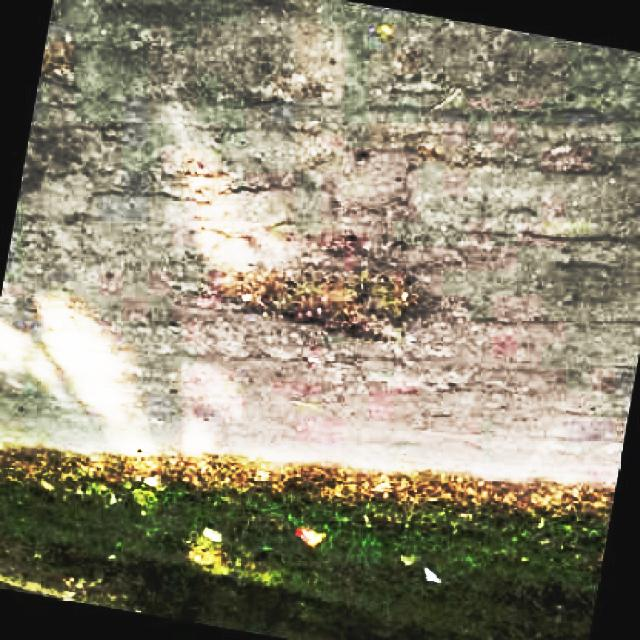pothole: (202, 254, 420, 341)
